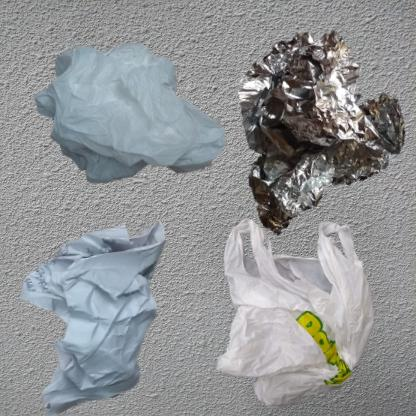aluminio: (213, 10, 416, 252)
bolsa: (10, 10, 293, 267), (213, 213, 383, 416)
papel: (10, 213, 194, 416)
